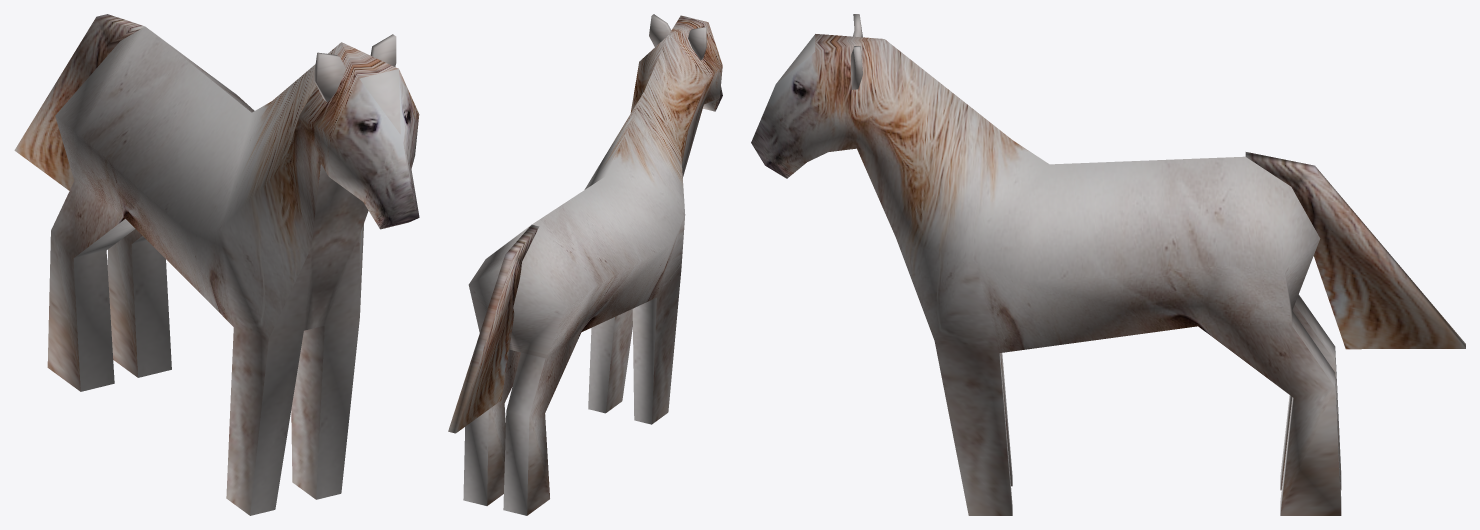
The model's file is horse.fbx.
3 renders of one model, left to right at view 1: azimuth 30°, elevation 25°; view 2: azimuth 150°, elevation 25°; view 3: azimuth 270°, elevation 25°, orthographic. The views are drawn at different scales.
Parts seen in each view (by area): view 1: horse.005; view 2: horse.005; view 3: horse.005.
Boxes of the visible parts, box(x1,y1,x2,y2) form: horse.005: box(14, 14, 419, 515); horse.005: box(448, 14, 722, 515); horse.005: box(751, 14, 1465, 515).
Bounding box in the file's own units: 74.51 × 228 × 318.
